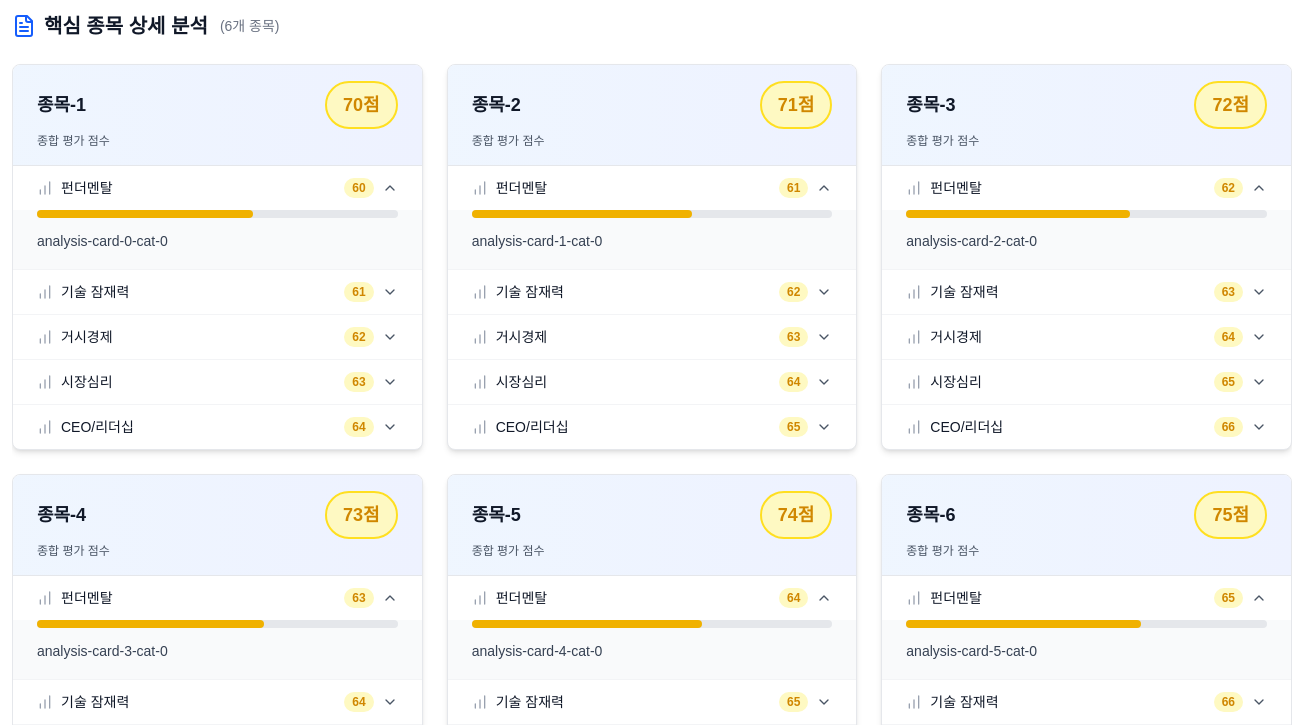
Test: KeyStockAnalysisTab - rendering and behavior › accordion independence across multiple cards (6 stocks)
Check: the text "analysis-card-1-cat-0" is shown, box top-left (472, 233), bottom-right (602, 249)
Check: the text "analysis-card-3-cat-0" is shown, box top-left (37, 643), bottom-right (168, 659)
// 카드 순서대로 5개씩 버튼이 생기므로, 두 번째 카드의 동일 카테고리 버튼은 인덱스 1
Step 1. Click the text "기술 잠재력" below "analysis-card-1-cat-0" → (530, 292), box top-left (496, 282), bottom-right (564, 302)
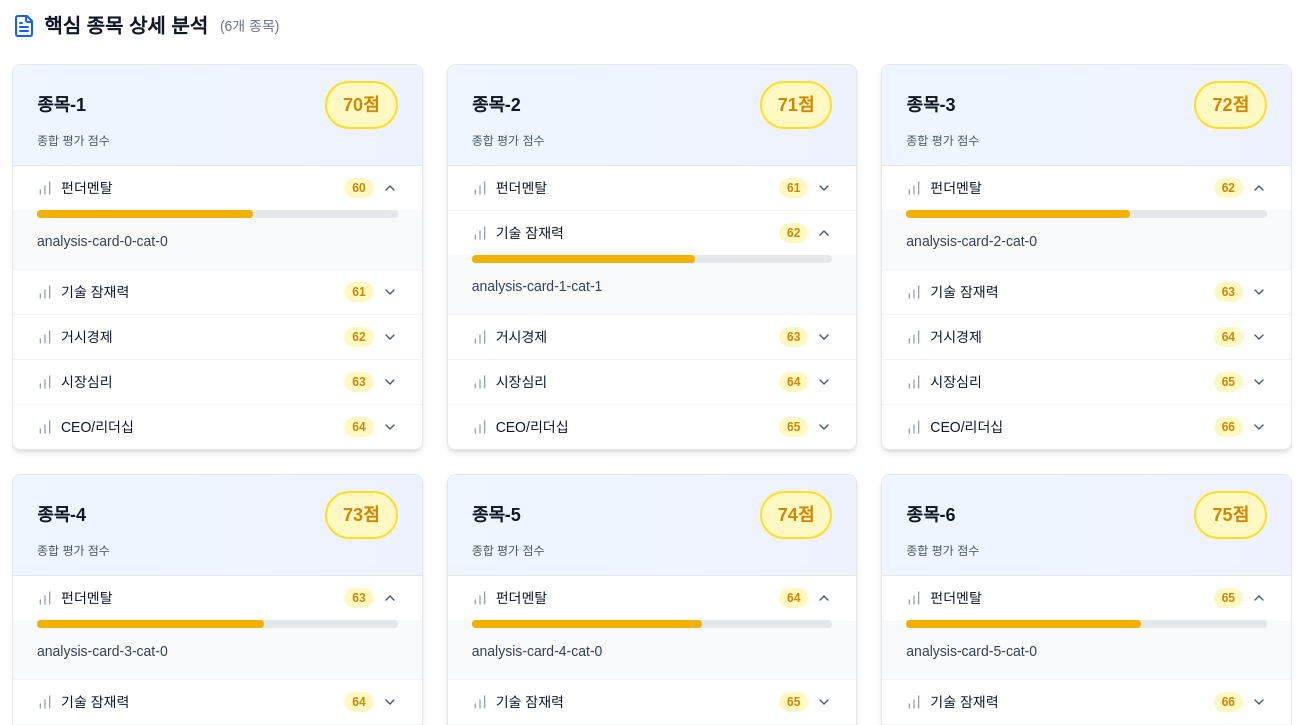
Check: the text "analysis-card-3-cat-0" is shown, box top-left (37, 643), bottom-right (168, 659)
Check: the text "analysis-card-1-cat-0" is gone
Check: the text "analysis-card-1-cat-1" is shown, box top-left (472, 278), bottom-right (602, 294)
